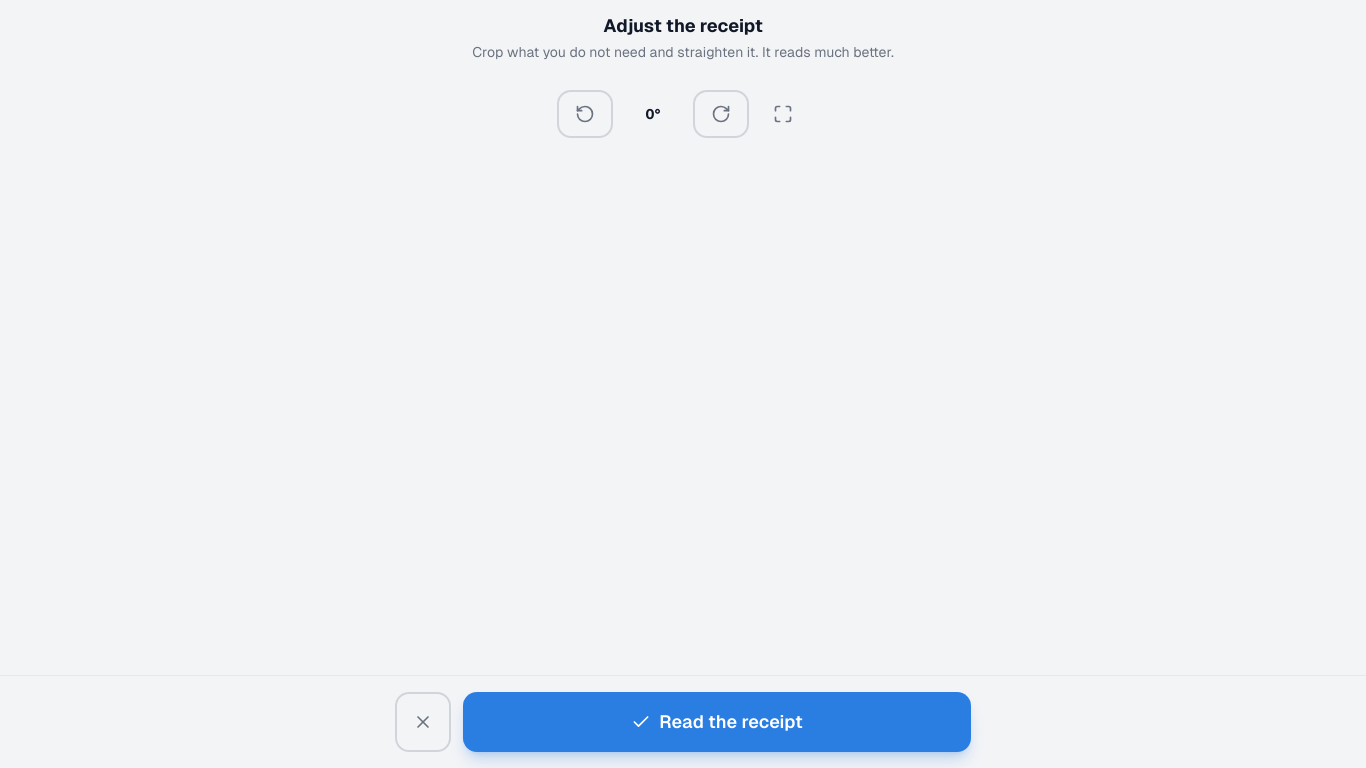
Test: pantalla de encuadre › gira también hacia el otro lado
What coordinates should you click on to do the following:
click the button named "Rotate left"
I would click on:
 (585, 114)
Its box is [557,90,613,138].
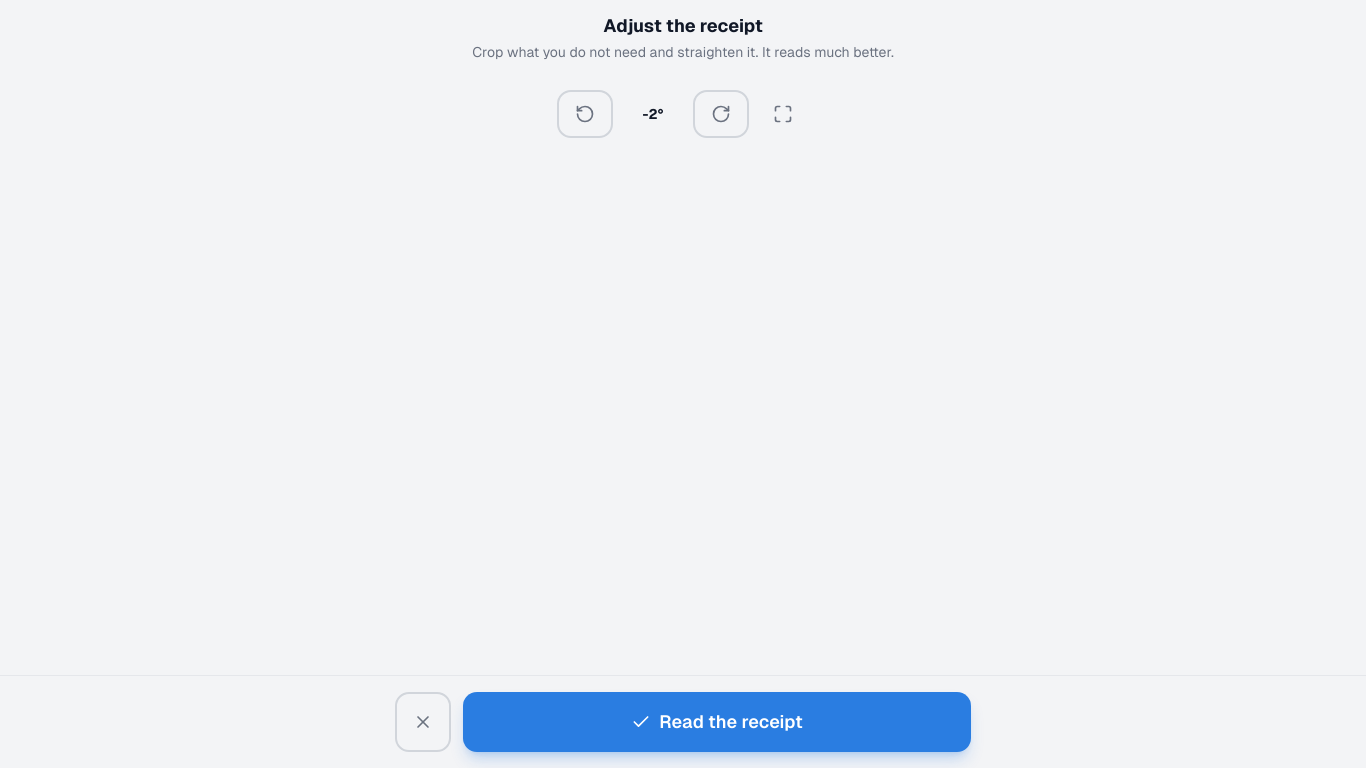
Expected: the text "-2°" is shown, [643,106,664,122]
